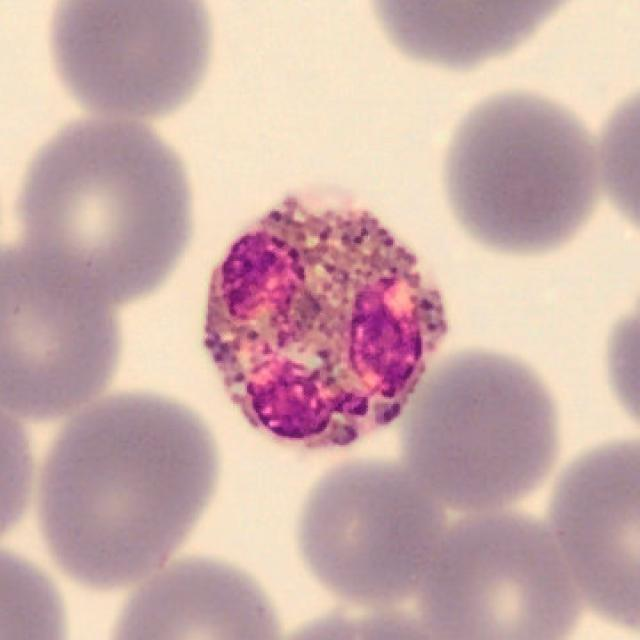Eosinofilo: (203, 186, 448, 451)
